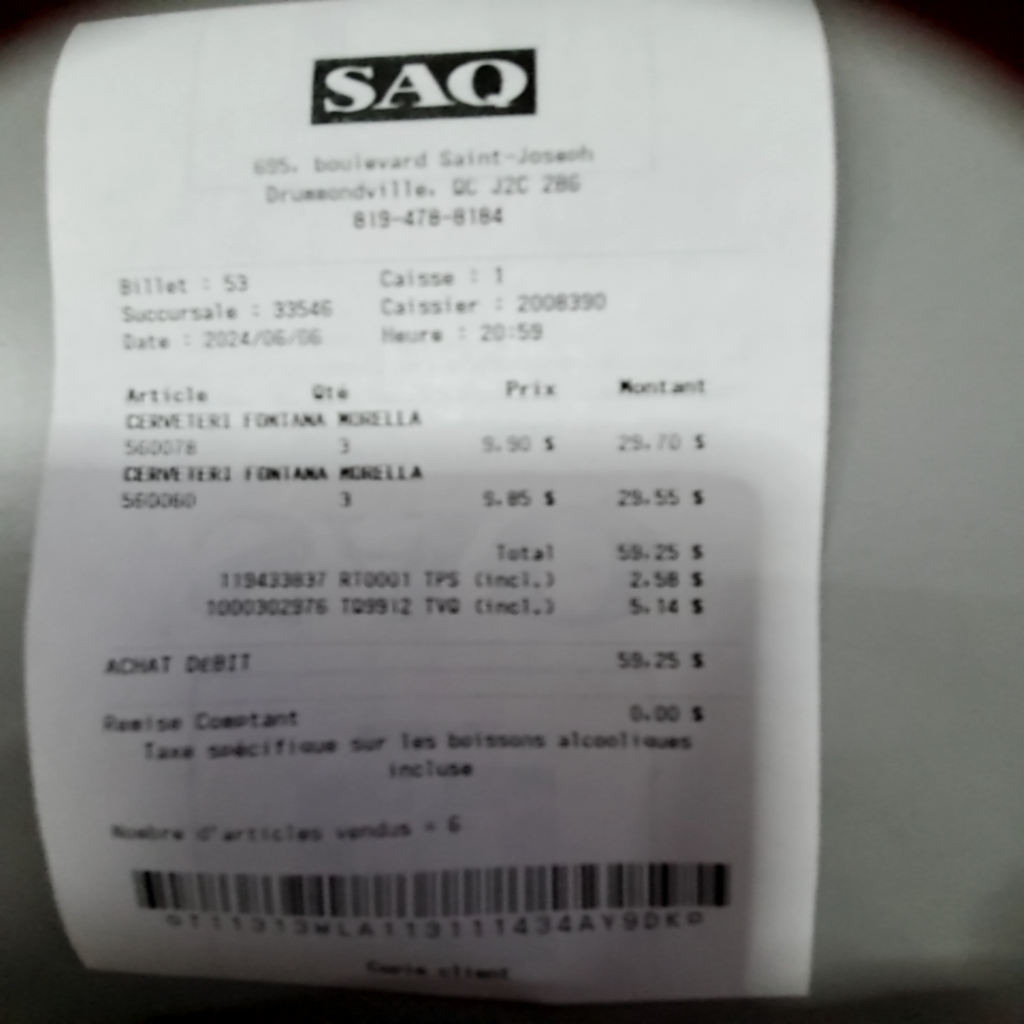recipt: (19, 0, 835, 1005)
